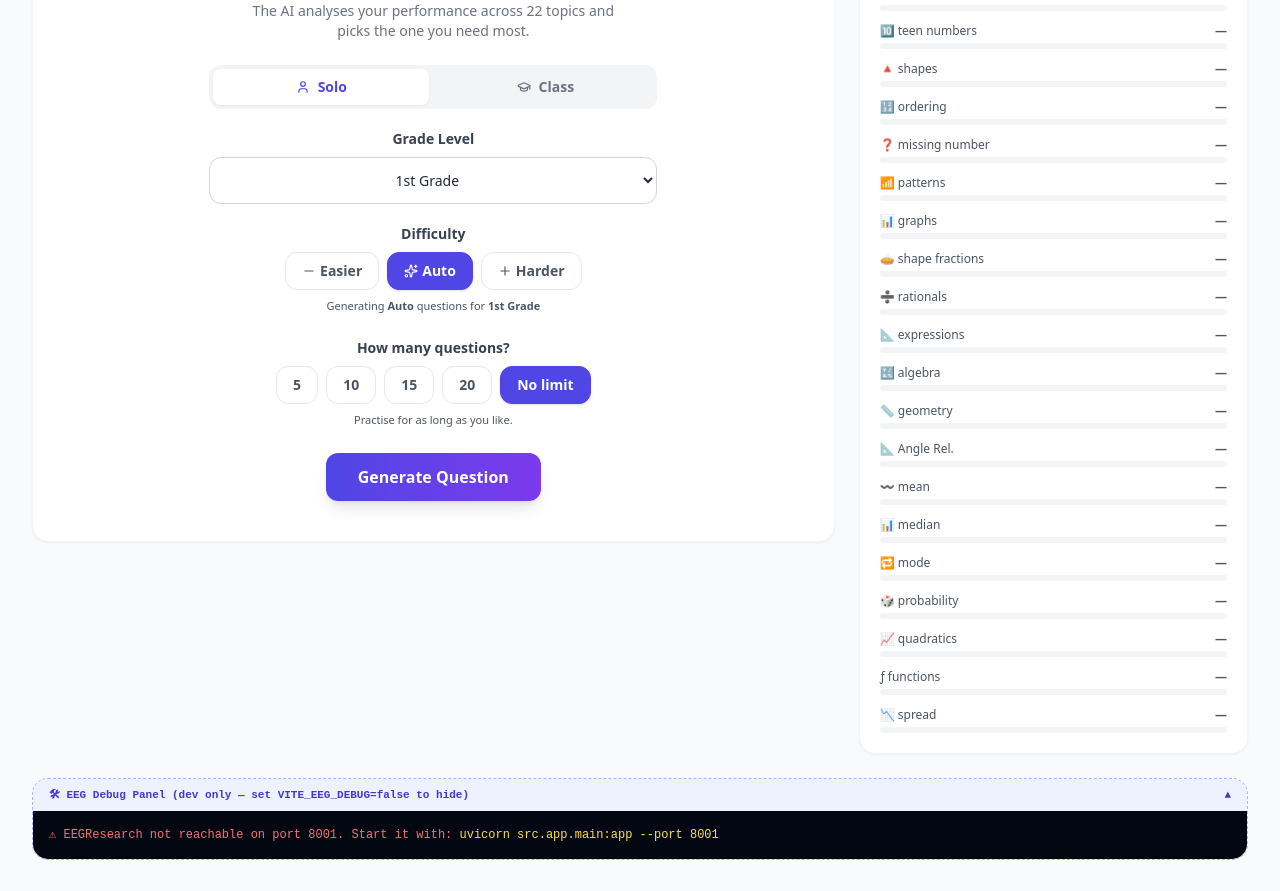
claims no RECORDING when nothing was saved lately, as in a backend outage
(page scrolled)
Click the button "Generate Question" at (433, 476), box x1=326 y1=452 x2=541 y2=500
(page scrolled)
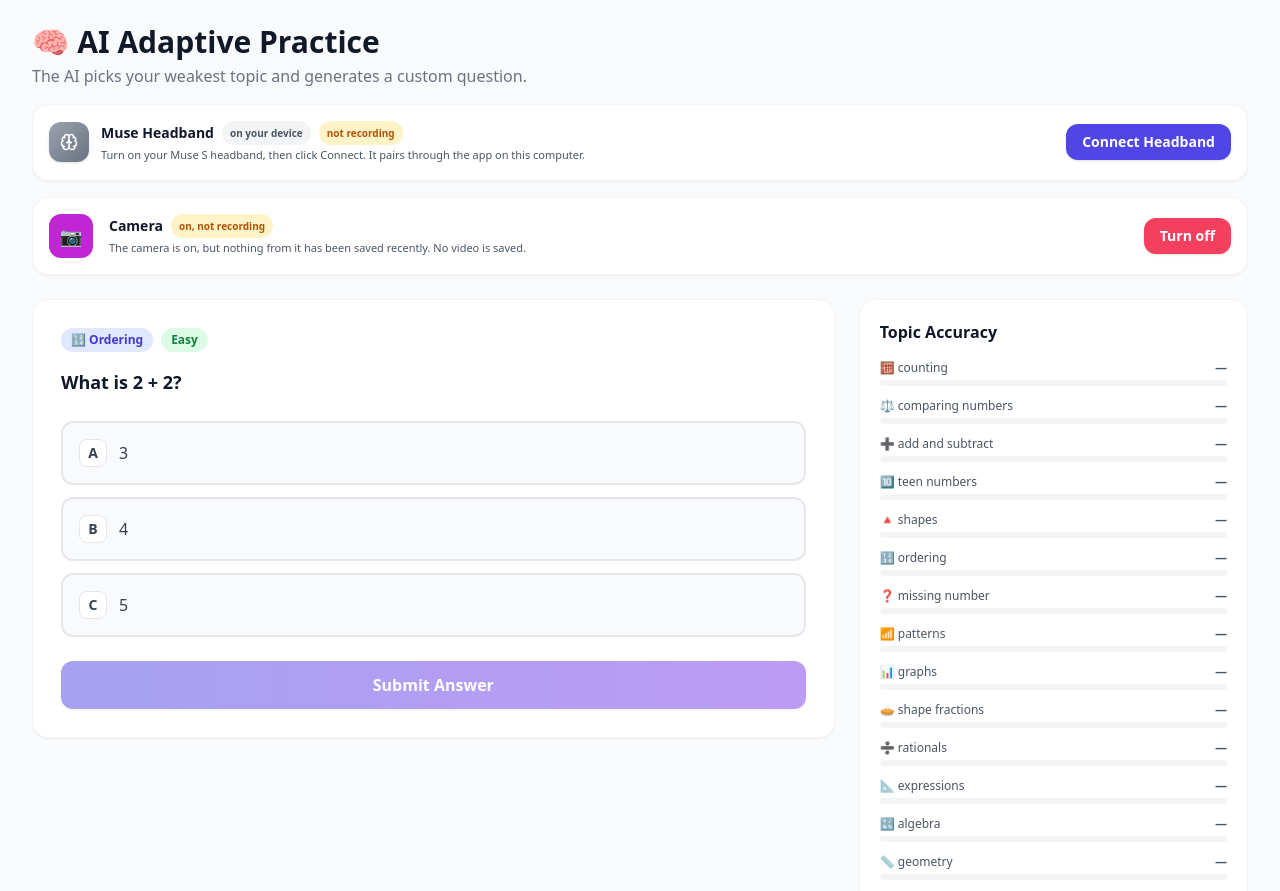
Now the text "What is 2 + 2?" is shown, box x1=61 y1=370 x2=182 y2=394
Now the text "not recording" is shown, box x1=319 y1=121 x2=403 y2=145
Now the text "nothing from it has been saved recently" is shown, box x1=109 y1=240 x2=526 y2=255
